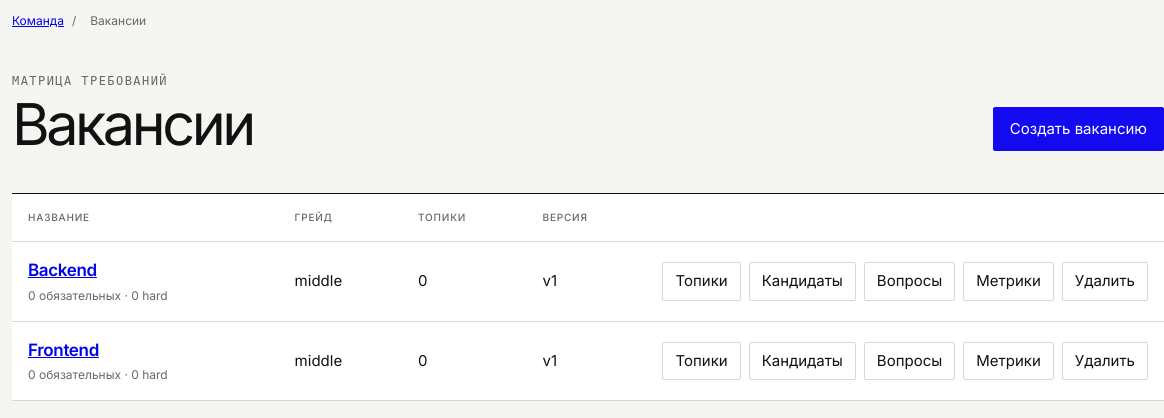
Test: VacanciesPage › удаляет вакансию из списка после подтверждения
Expected: the link "Backend" is shown, [28, 260, 97, 280]
Click the button "Удалить" in the row of "Backend" at (1105,282), box [1062, 262, 1148, 301]
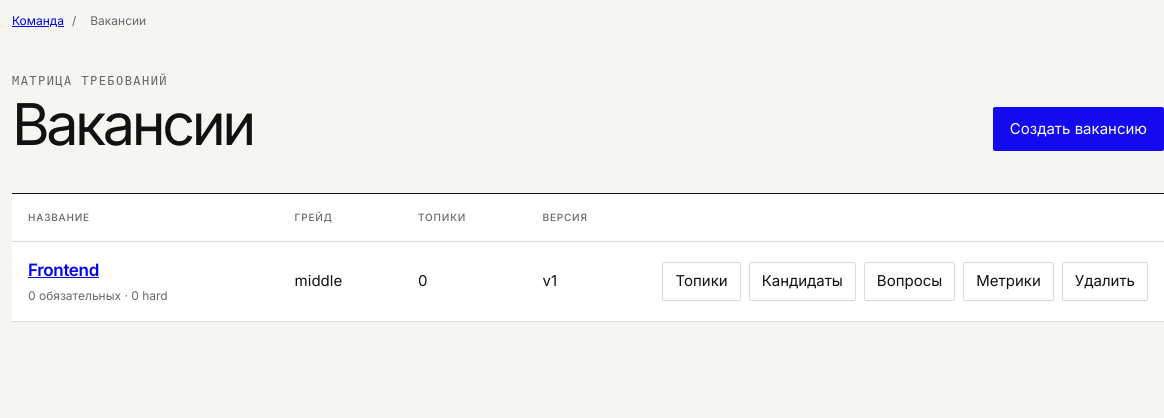
Expected: the link "Frontend" is shown, [28, 260, 99, 280]
Expected: the link "Backend" is gone
